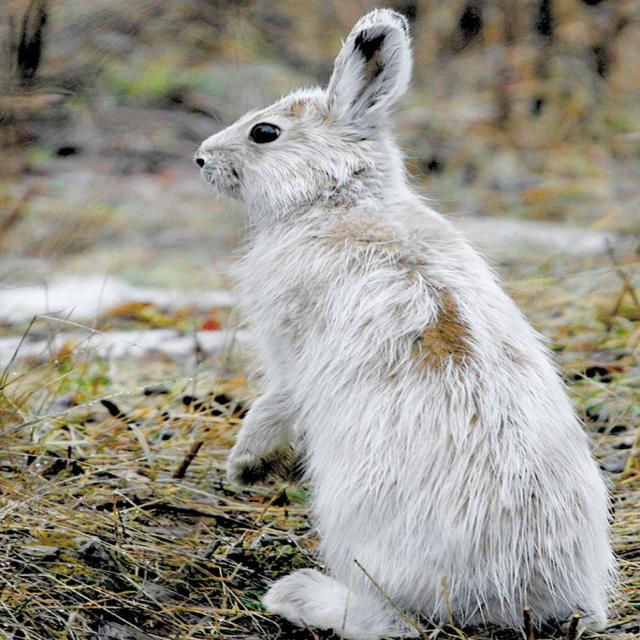Hare: (190, 6, 630, 635)
